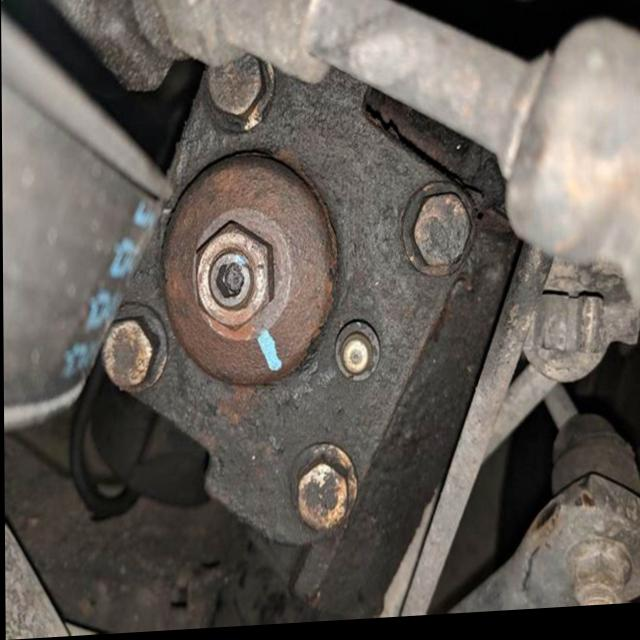Rusty bolt: (195, 223, 272, 333), (408, 193, 471, 282), (204, 54, 268, 131), (292, 460, 352, 537), (103, 314, 157, 392)
